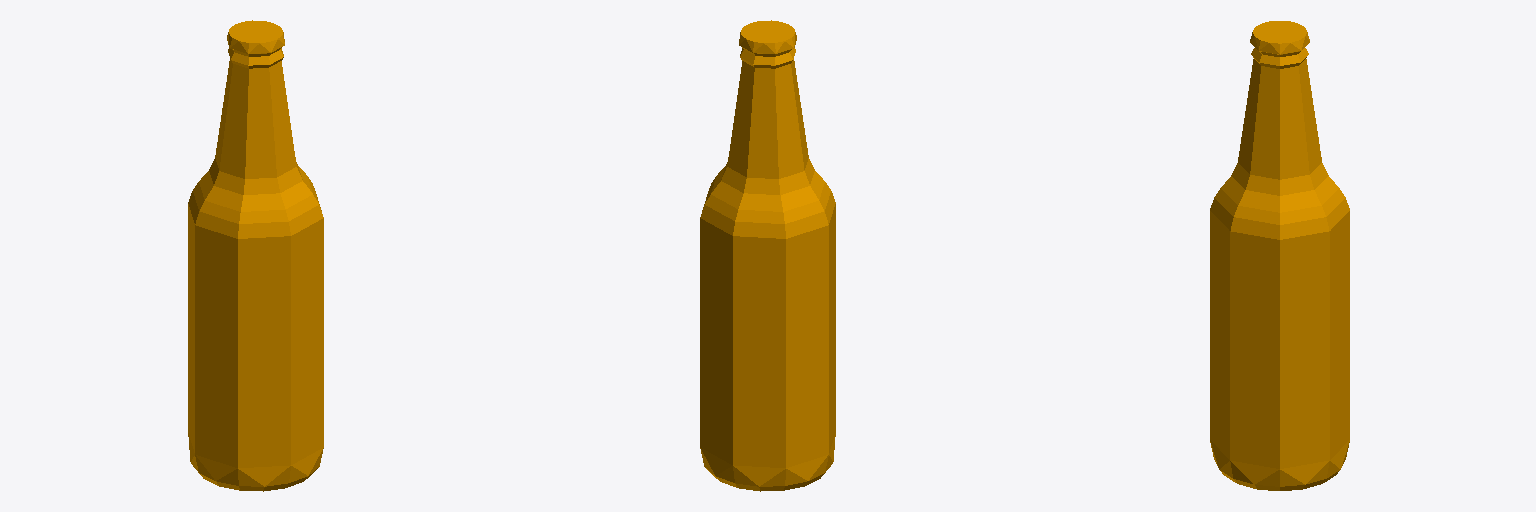
URDF robot description (obj_8):
<?xml version="1.0"?>
<robot name="obj_8">
  <link name="obj_8">
    <visual>
      <origin xyz="0.0 0.0 0.0" rpy="0 0 0"/>
      <geometry>
        <mesh filename="../mesh/ncf_mug_cupholder/obj_assets/8/obj_collision.obj" scale="1 1 1"/>
      </geometry>
    </visual>
    <collision>
      <origin xyz="0.0 0.0 0.0" rpy="0 0 0"/>
      <geometry>
        <mesh filename="../mesh/ncf_mug_cupholder/obj_assets/8/obj_collision.obj" scale="1 1 1"/>
      </geometry>
      <sdf resolution="512"/>
    </collision >    
    <inertial>
      <mass value="0.102"/>
      <inertia ixx="0.0001" ixy="0.0" ixz="0.0" iyy="0.0001" iyz="0.0" izz="0.0001"/>
    </inertial>
  </link>
</robot>

--- What the picture shows (computed from the rendered views, not written in the file) ---
3 views of the same robot in one strip: view 1: azimuth 30°, elevation 25°; view 2: azimuth 150°, elevation 25°; view 3: azimuth 270°, elevation 25° (orthographic).
Robot: obj_8 — 1 links, 0 joints (none); root link obj_8; default pose: all joints at 0.
Links seen in each view (by area): view 1: obj_8; view 2: obj_8; view 3: obj_8.
Link boxes in pixels (box(x1,y1,x2,y2)): obj_8: box(188, 20, 323, 491); obj_8: box(700, 20, 835, 491); obj_8: box(1210, 21, 1349, 490).
Size in the robot's own frame: 0.0488 by 0.0488 by 0.1663 metres.
Meshes: 1 distinct files referenced, 1 mesh visuals loaded (1 OBJ).